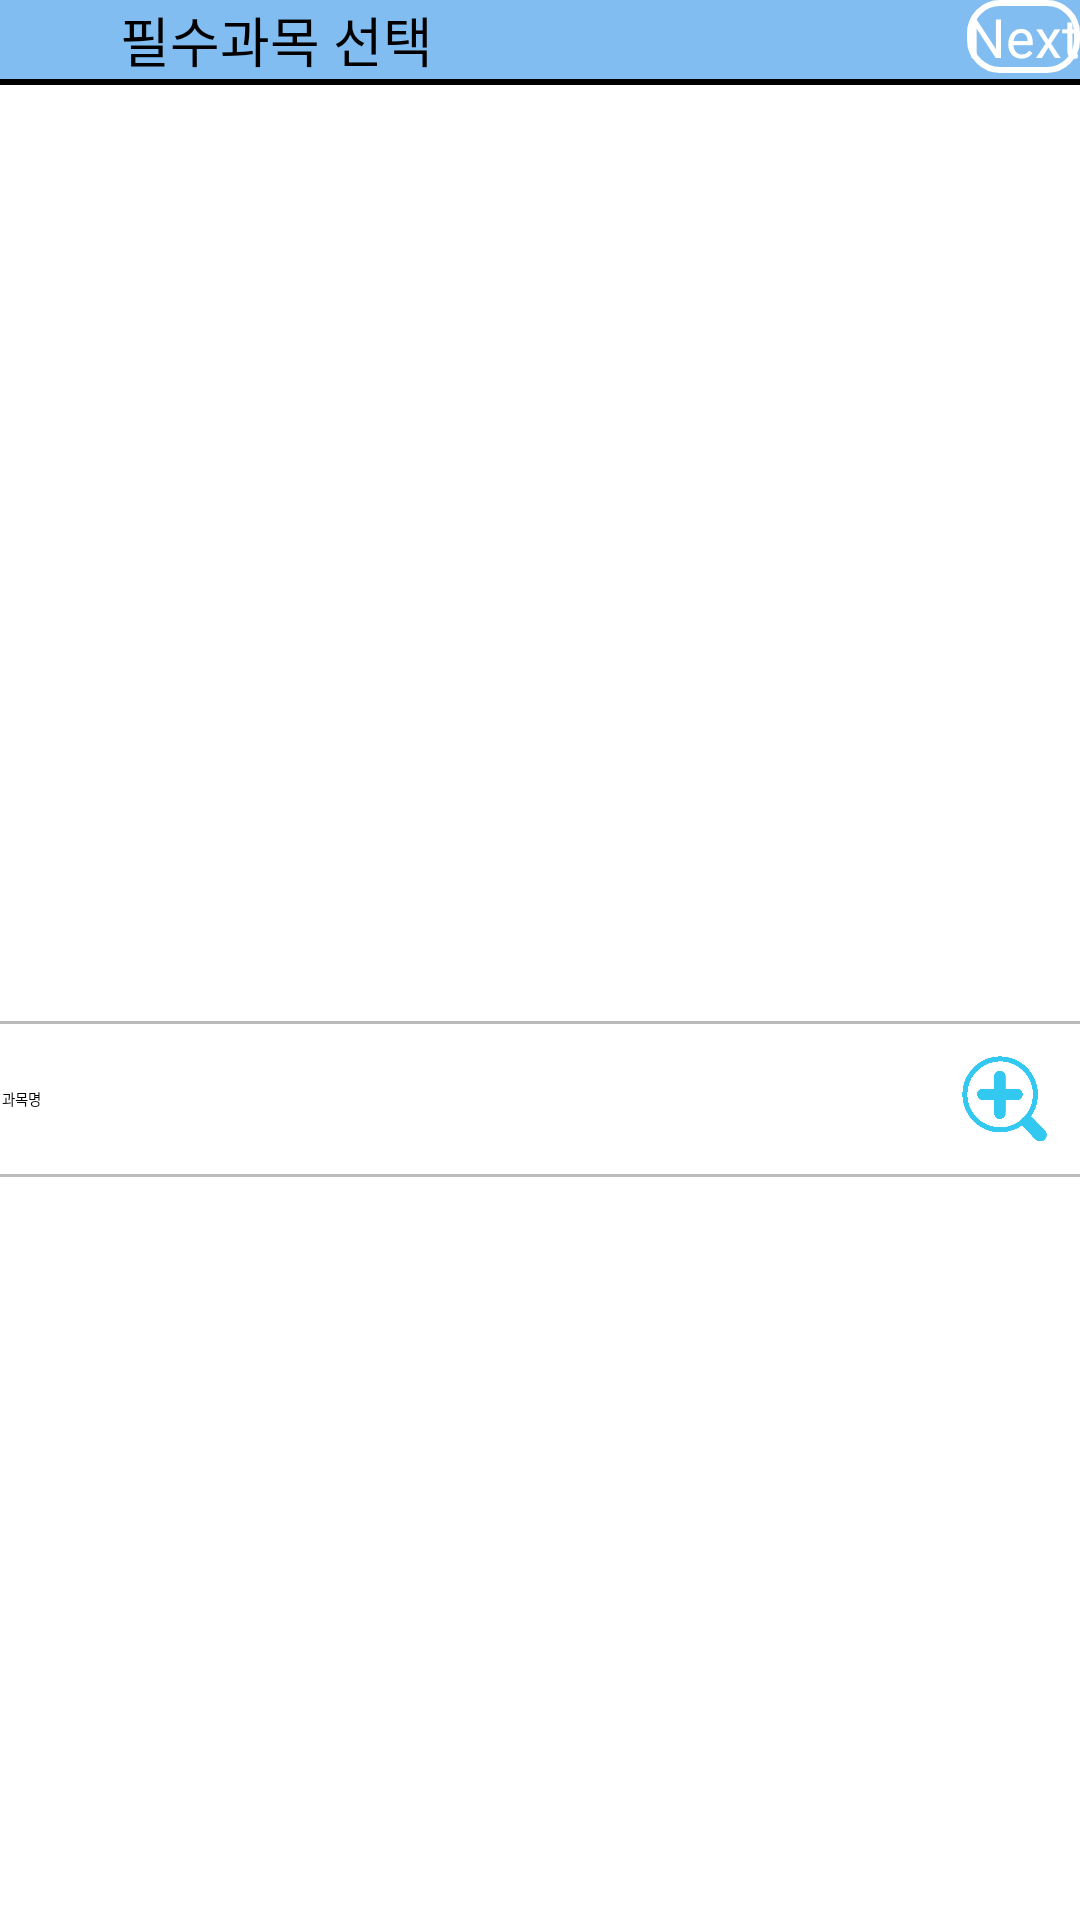

Point at icon controls on the screen. Image size 1080 × 1920, points as point (x, y).
seek: point (1004, 1098)
